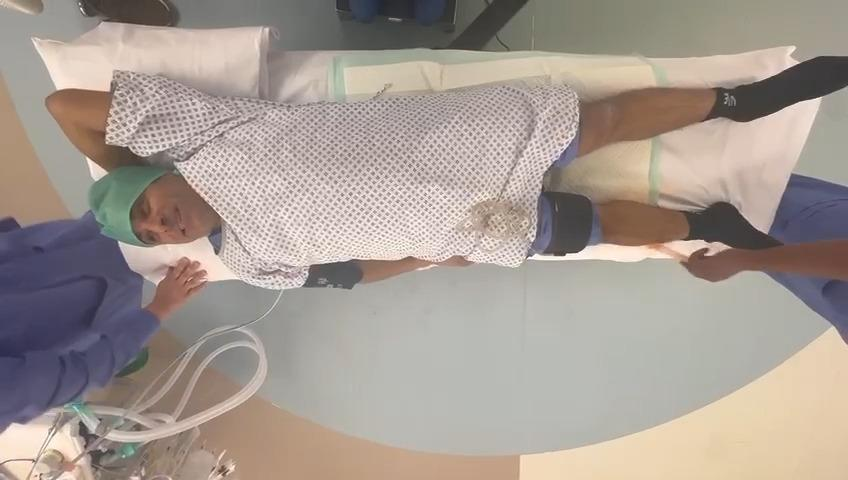patient: (48, 58, 848, 288)
prepstick: (651, 243, 688, 262)
tourniquet: (544, 192, 593, 254)
